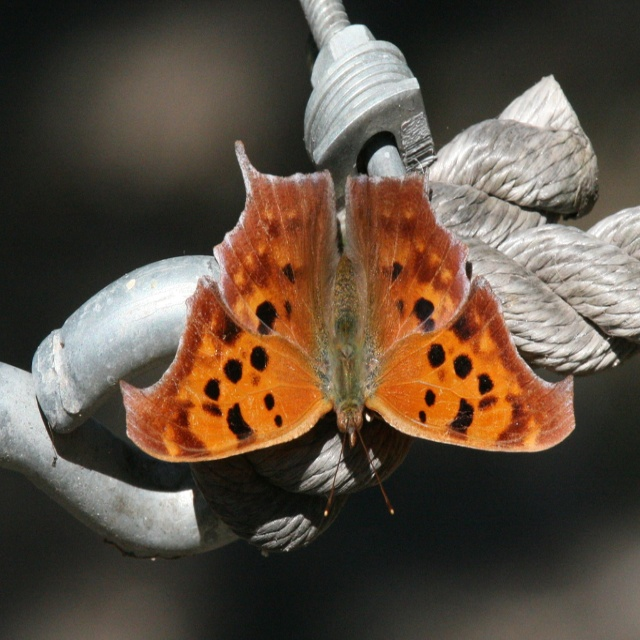Butterfly: (114, 215, 574, 505)
